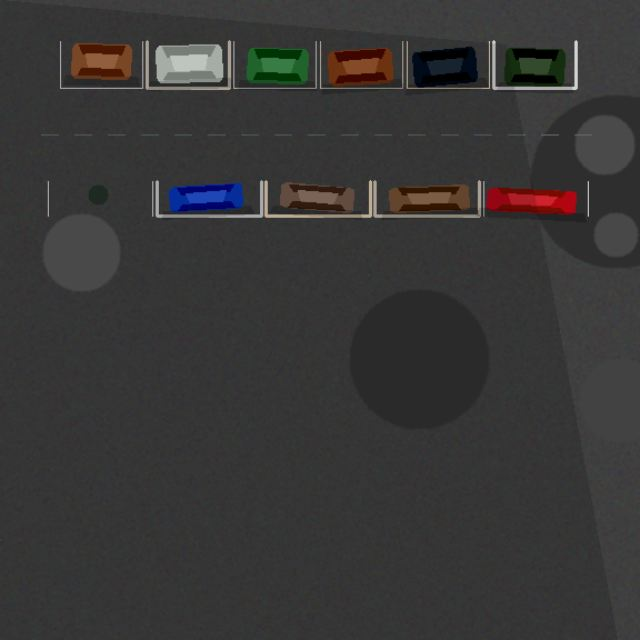space-empty: (48, 181, 152, 216)
space-occupied: (233, 41, 316, 88), (493, 41, 576, 88), (60, 41, 142, 88), (147, 41, 229, 88), (320, 41, 402, 88), (407, 41, 489, 88), (374, 181, 479, 216), (483, 181, 588, 216), (157, 181, 261, 216), (266, 181, 370, 216)
